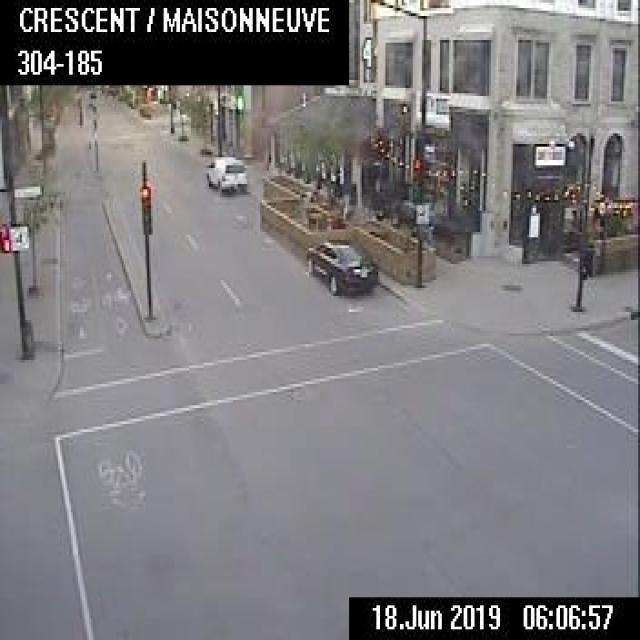vehicle: (306, 237, 378, 294), (205, 152, 247, 192)
